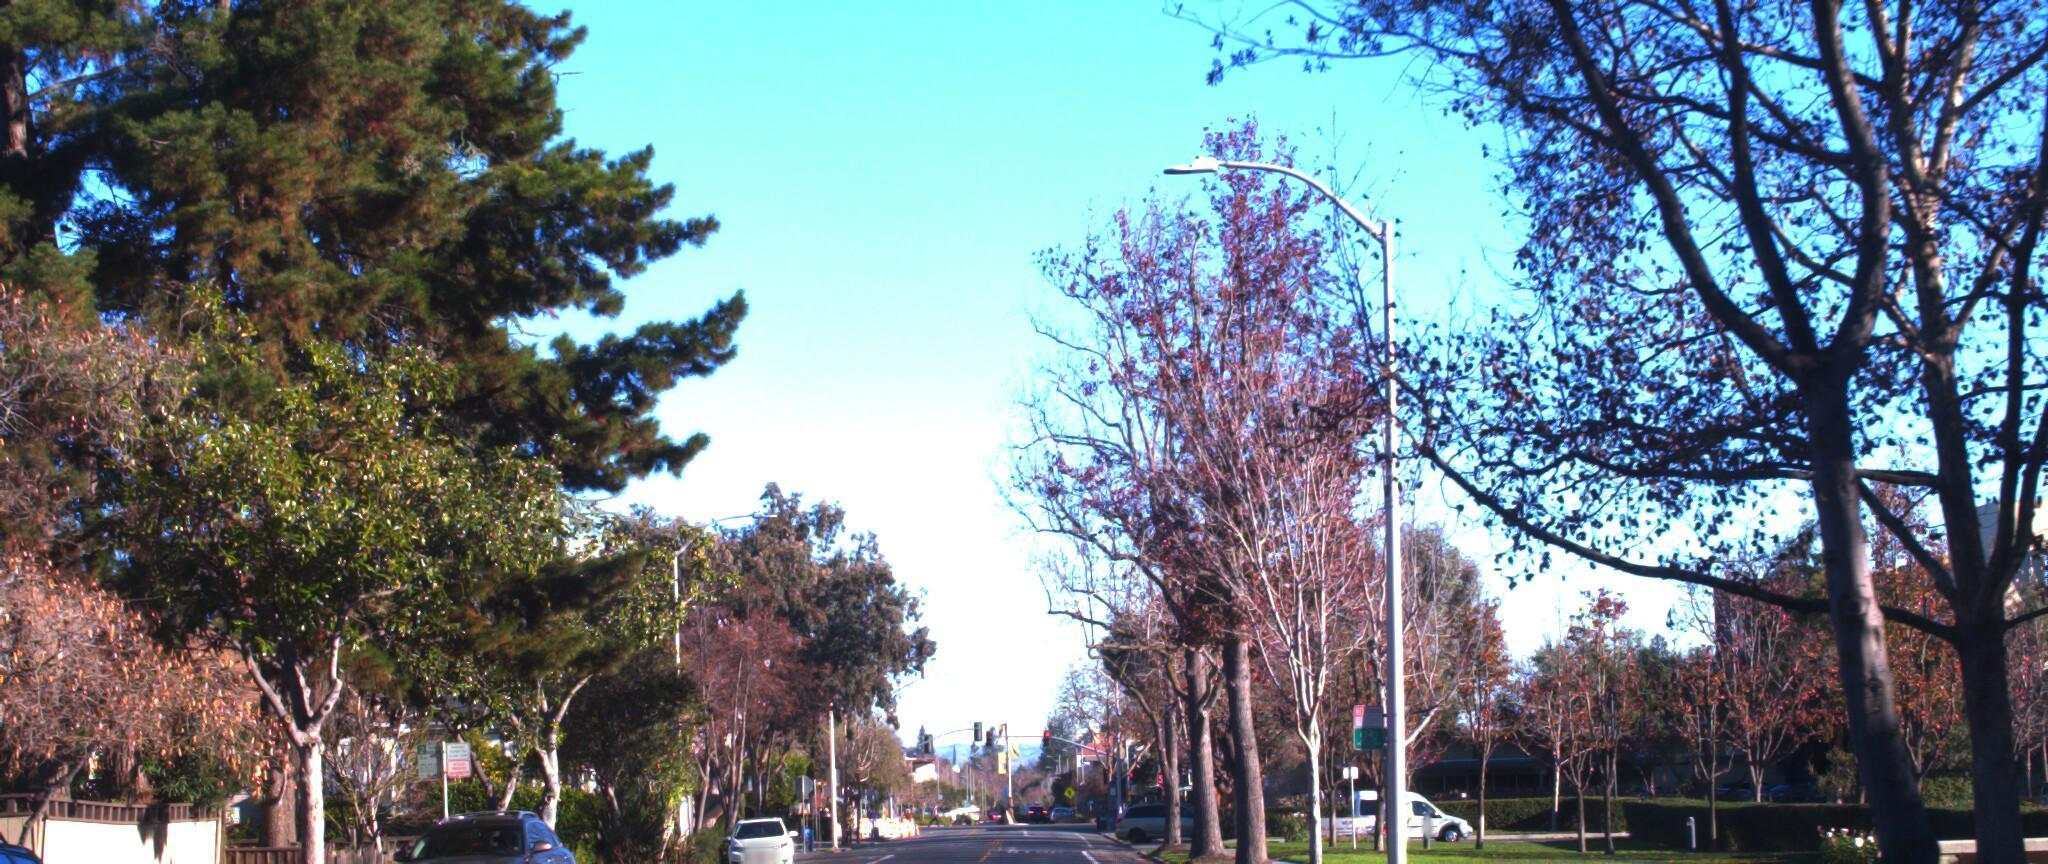car: (360, 784, 594, 864), (0, 797, 123, 864), (724, 794, 794, 856)
